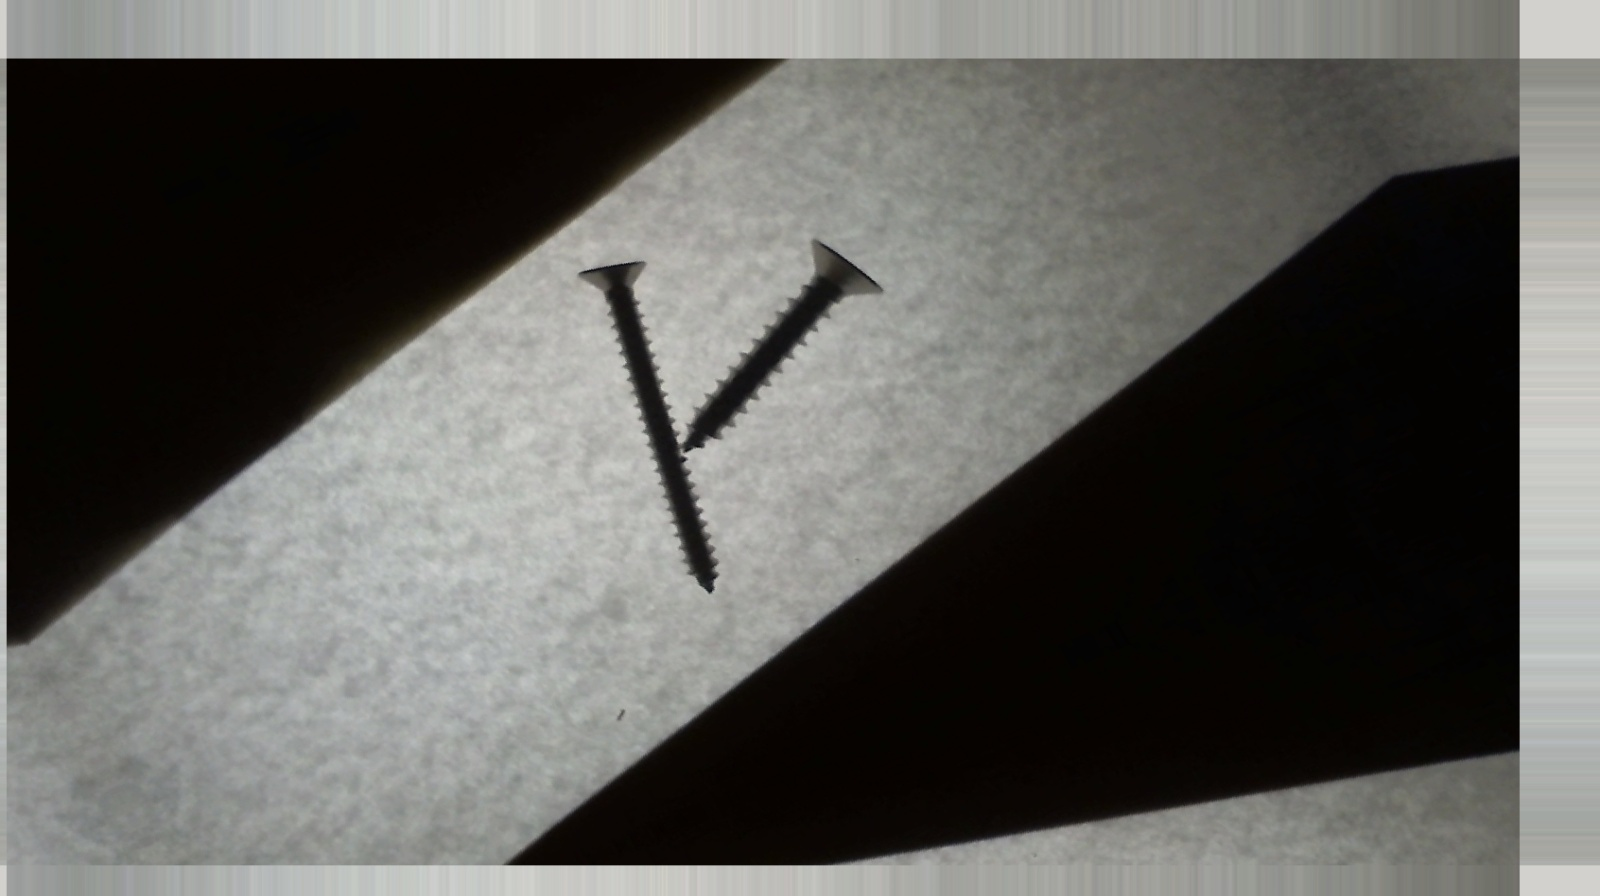S001: (595, 215, 930, 462)
S002: (514, 240, 816, 594)
